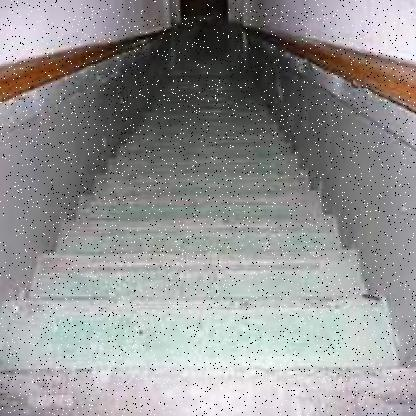stair_down: (24, 244, 320, 349)
